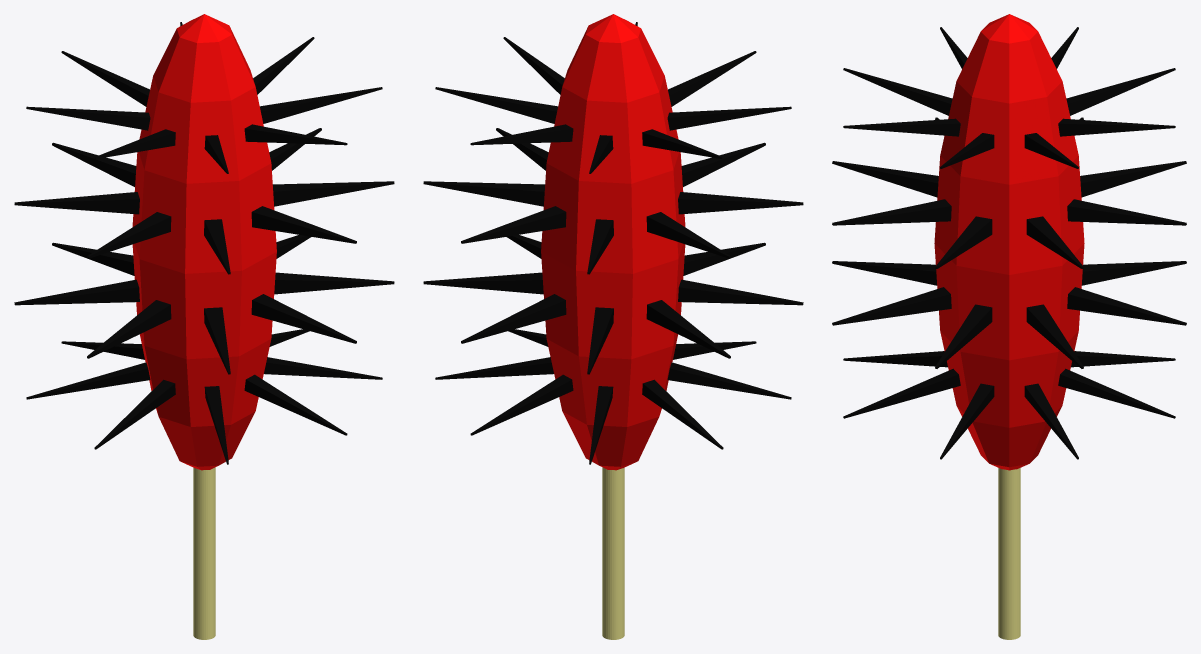
Rendered from BobaSpike.glb.
3 renders of one model, left to right at view 1: azimuth 30°, elevation 25°; view 2: azimuth 150°, elevation 25°; view 3: azimuth 270°, elevation 25°, orthographic.
Parts seen in each view (by area): view 1: Body, Stem, Spike.024, Spike.027, Spike.011, Spike.012, Spike.008, Spike.015, Spike.022, Spike.026, Spike.009, Spike.025 (+14 smaller); view 2: Body, Stem, Spike.022, Spike.021, Spike.005, Spike.032, Spike.006, Spike.003, Spike.024, Spike.020, Spike.007, Spike.023 (+14 smaller); view 3: Body, Stem, Spike.032, Spike.012, Spike.003, Spike.015, Spike.017, Spike.031, Spike.002, Spike.014, Spike.018, Spike.028 (+14 smaller).
Boxes of the visible parts, x1,y1,x2,y2 form: Body: (132,14,276,470); Stem: (193,467,215,639); Spike.024: (14,279,139,305); Spike.027: (14,192,139,214); Spike.011: (272,181,394,206); Spike.012: (251,294,356,343); Spike.008: (274,272,394,294); Spike.015: (251,206,356,243); Spike.022: (87,300,171,358); Spike.026: (26,362,150,399); Spike.009: (260,87,382,123); Spike.025: (26,106,150,130); Body: (541,14,685,470); Stem: (602,467,624,639); Spike.022: (678,279,803,305); Spike.021: (678,192,803,214); Spike.005: (423,181,545,206); Spike.032: (461,294,566,343); Spike.006: (423,272,543,294); Spike.003: (461,206,566,243); Spike.024: (646,300,730,358); Spike.020: (667,362,791,399); Spike.007: (435,87,557,123); Spike.023: (667,106,791,130); Body: (934,14,1084,470); Stem: (998,468,1020,639); Spike.032: (1067,287,1186,325); Spike.012: (832,287,951,325); Spike.003: (1067,199,1186,225); Spike.015: (832,199,951,225); Spike.017: (832,161,938,197); Spike.031: (1080,161,1186,197); Spike.002: (1058,368,1175,418); Spike.014: (843,368,960,418); Spike.018: (832,261,937,285); Spike.028: (1081,261,1186,285).
Size of the model in its own units: 1.81 by 3.5 by 1.81.
